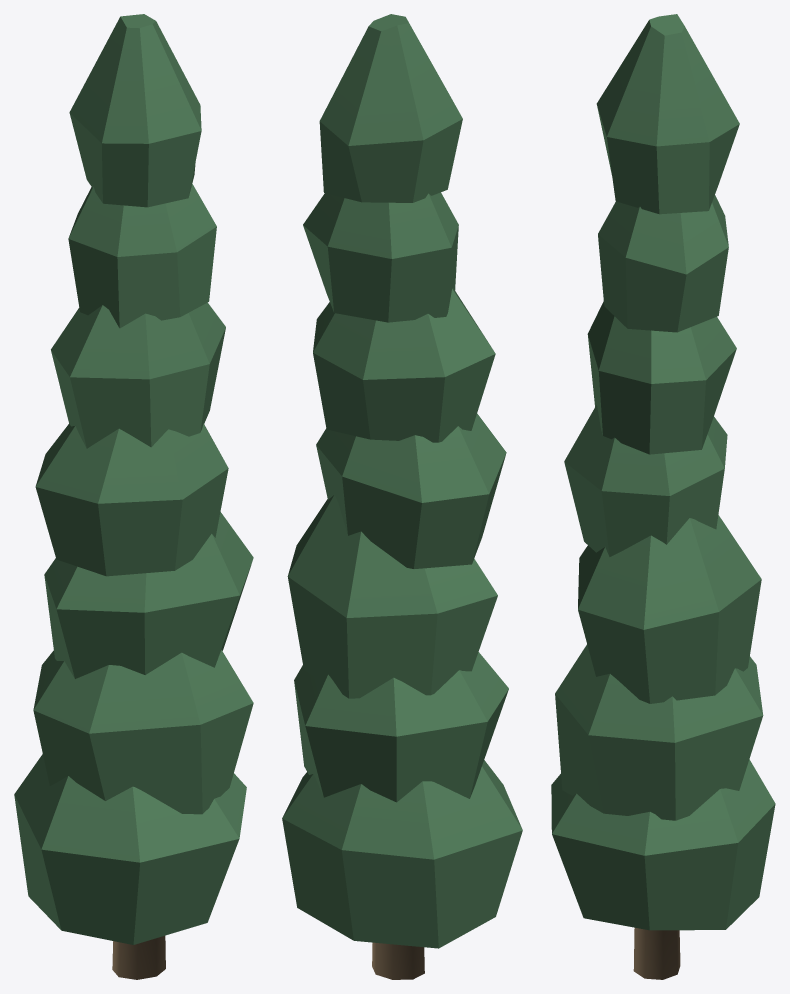
The model's file is cypress_a.glb.
The picture shows the model from 3 angles, left to right: view 1: azimuth 30°, elevation 25°; view 2: azimuth 150°, elevation 25°; view 3: azimuth 270°, elevation 25°; orthographic projection.
Parts seen in each view (by area): view 1: cypress_a; view 2: cypress_a; view 3: cypress_a.
Boxes of the visible parts, x1,y1,x2,y2 form: cypress_a: (14, 14, 253, 979); cypress_a: (282, 14, 522, 979); cypress_a: (551, 14, 775, 979).
Size of the model in its own units: 3.5 by 14.5 by 3.1.
